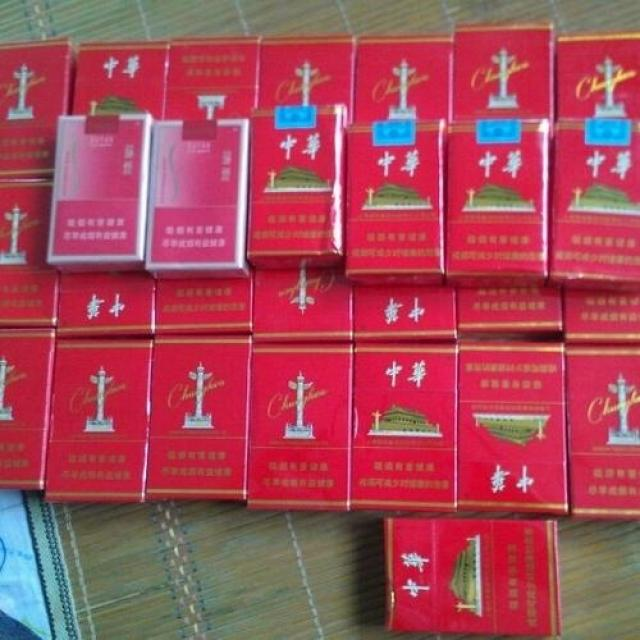box: (384, 518, 562, 636), (458, 339, 568, 513), (351, 339, 460, 513), (44, 338, 155, 504), (248, 338, 352, 513), (143, 118, 253, 280), (445, 119, 550, 288), (146, 337, 252, 503), (343, 120, 447, 287), (49, 113, 155, 274), (244, 105, 346, 268), (543, 118, 639, 289), (563, 343, 639, 521), (0, 38, 79, 179), (452, 18, 554, 120), (0, 178, 61, 330), (0, 329, 56, 492), (353, 33, 452, 124), (257, 35, 355, 124), (161, 36, 264, 120), (68, 40, 172, 120), (252, 266, 353, 343), (554, 31, 639, 120), (56, 271, 154, 339), (154, 279, 252, 339), (353, 287, 460, 340), (456, 287, 564, 333), (564, 285, 639, 346)
